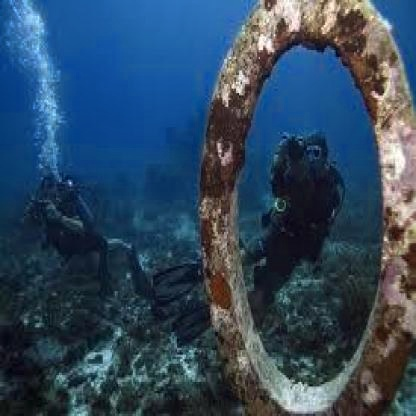tire: (197, 25, 286, 416)
